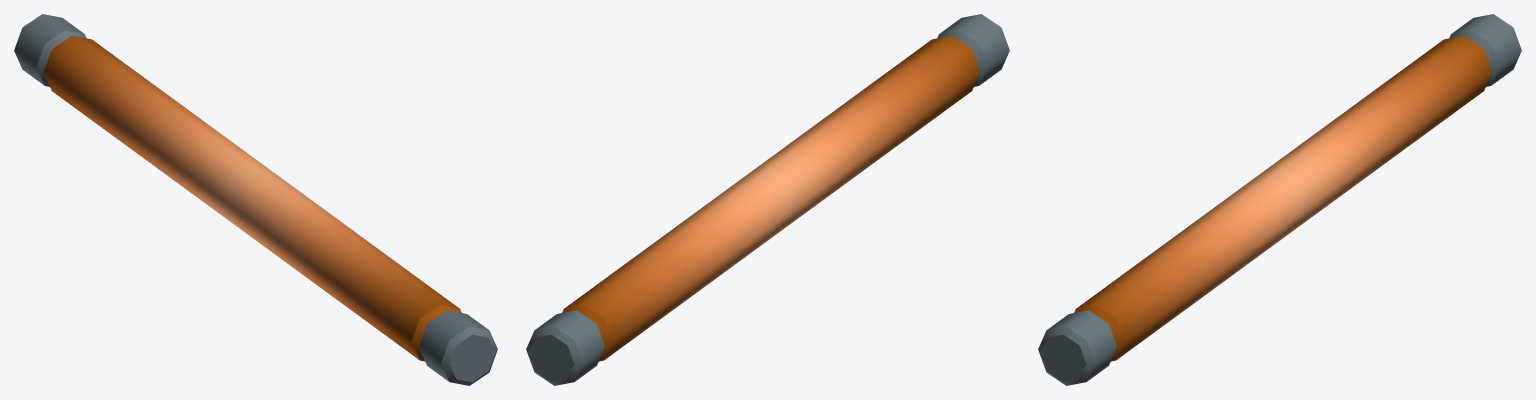
File: obstacle_11_002.fbx
3 views of the same model, side by side, from view 1: azimuth 30°, elevation 25°; view 2: azimuth 150°, elevation 25°; view 3: azimuth 330°, elevation 25° (orthographic).
Parts seen in each view (by area): view 1: obstacle_11_002; view 2: obstacle_11_002; view 3: obstacle_11_002.
Part boxes in pixels (x1,y1,x2,y2): obstacle_11_002: (14,14,497,385); obstacle_11_002: (526,14,1009,385); obstacle_11_002: (1038,14,1521,385).
Size of the model in its own units: 42.71 by 565 by 42.71.
